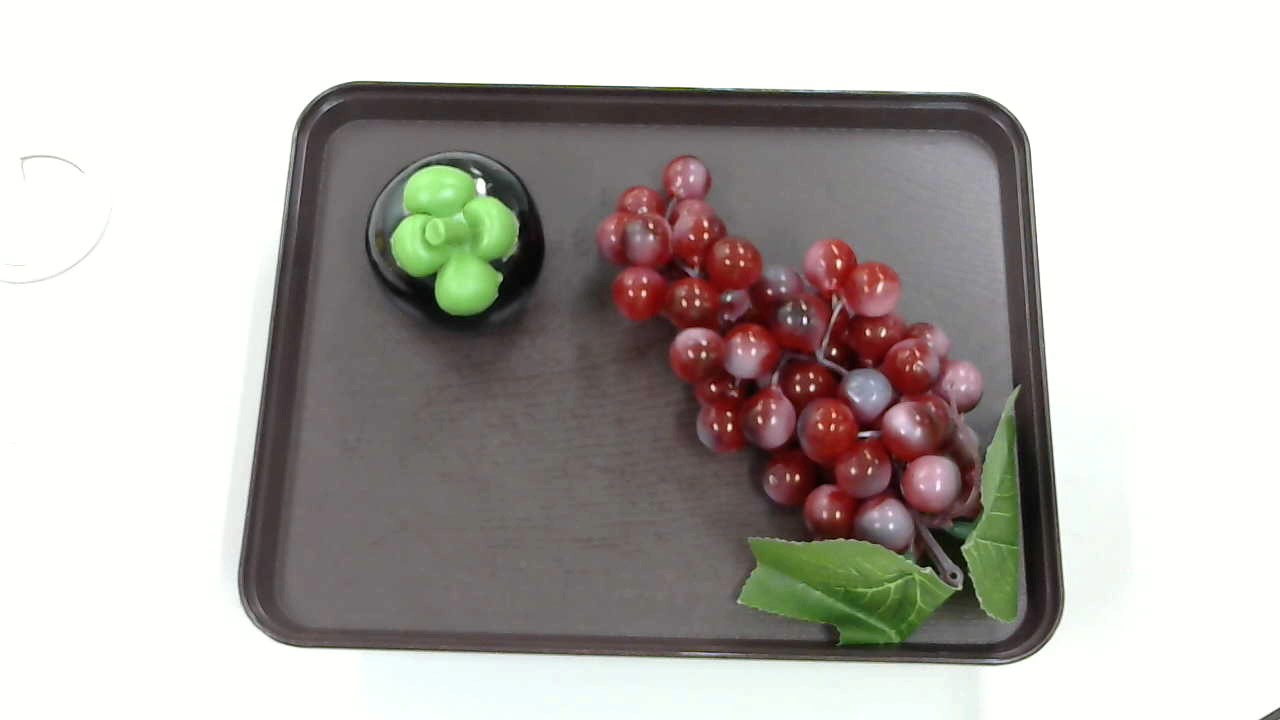grape: (600, 152, 1022, 644)
mangosteen: (362, 142, 559, 330)
